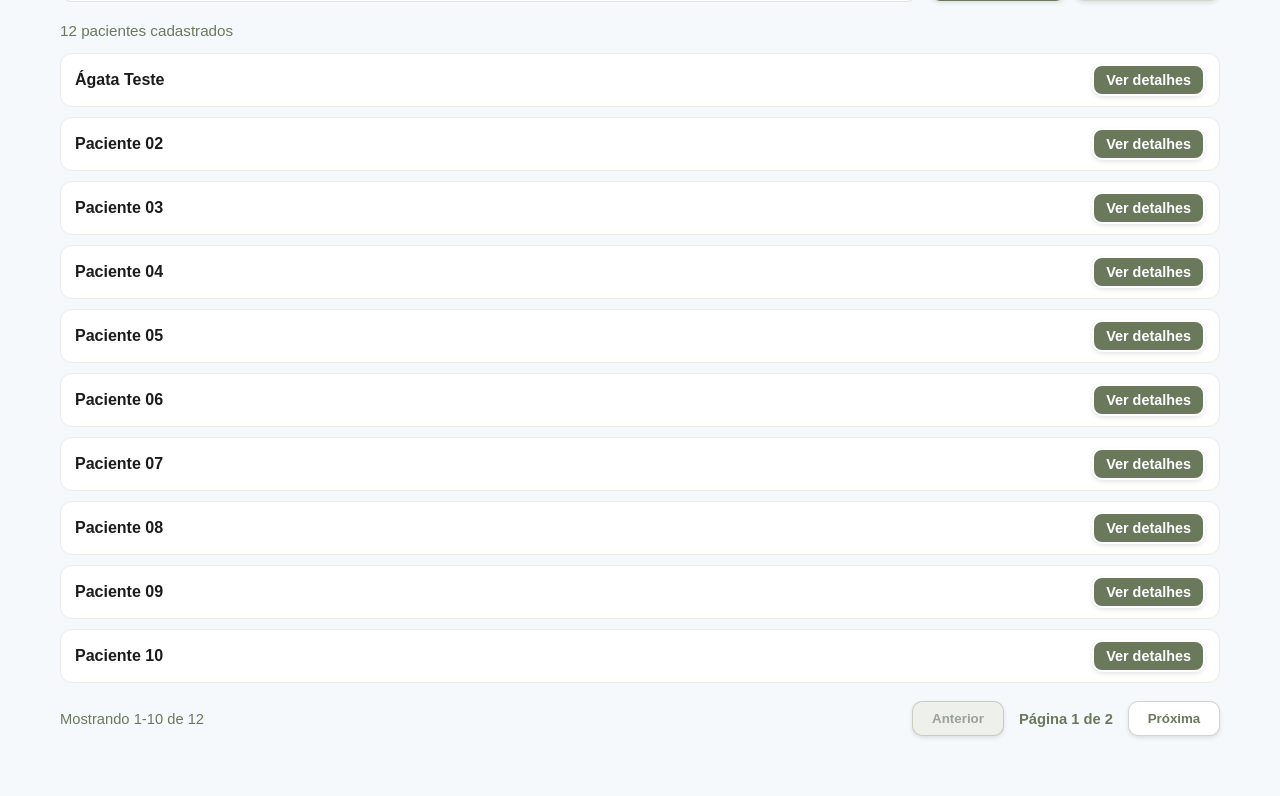
Test: PatientsSearch › mantém paginação e alternância entre lista e grade
(page scrolled)
Expected: the text "Mostrando 1-10 de 12" is shown, [60,710,204,726]
Expected: the navigation bar named "Paginação de pacientes" is shown, [60,701,1220,736]
Step 1. Click the button "Próxima" → (1174, 718), box [1128,701,1220,736]
(page scrolled)
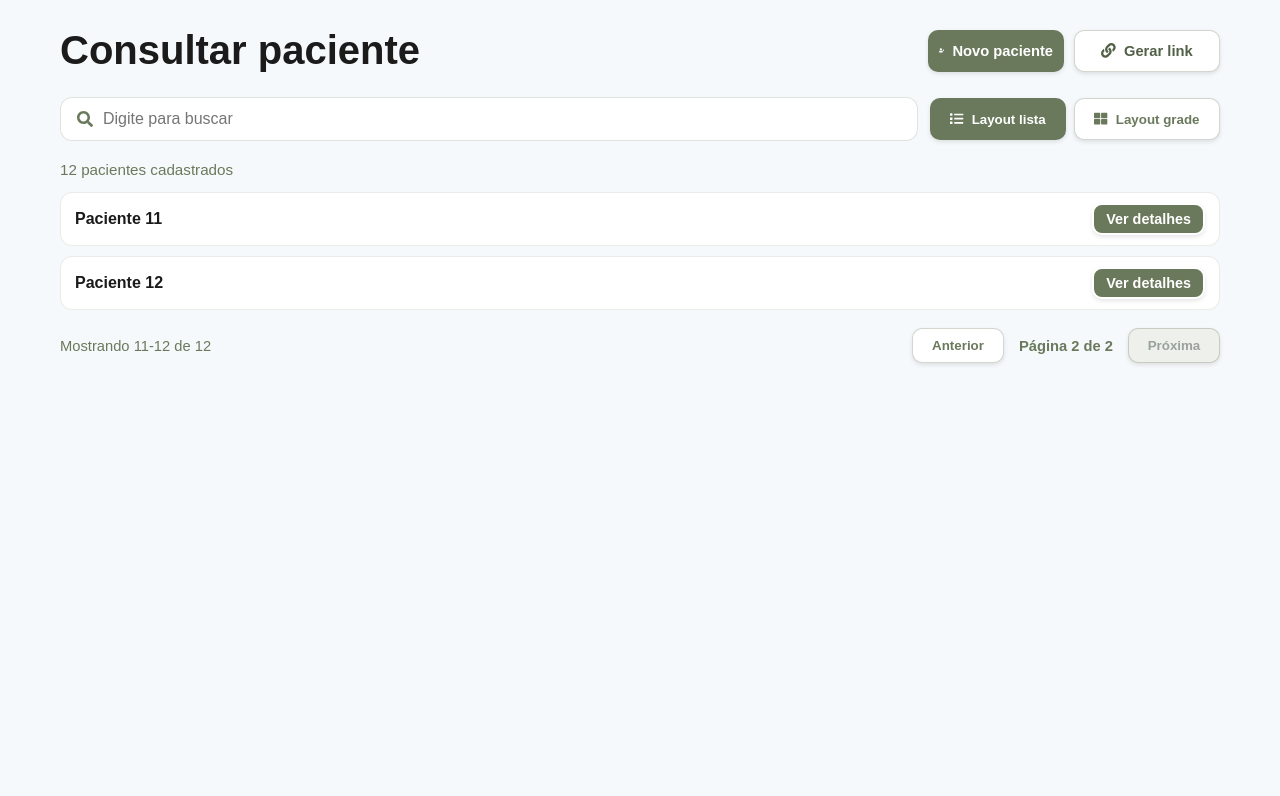
Expected: the text "Mostrando 11-12 de 12" is shown, [60,338,211,354]
Step 2. Click the button "Layout grade" → (1147, 119), box [1074,98,1220,140]
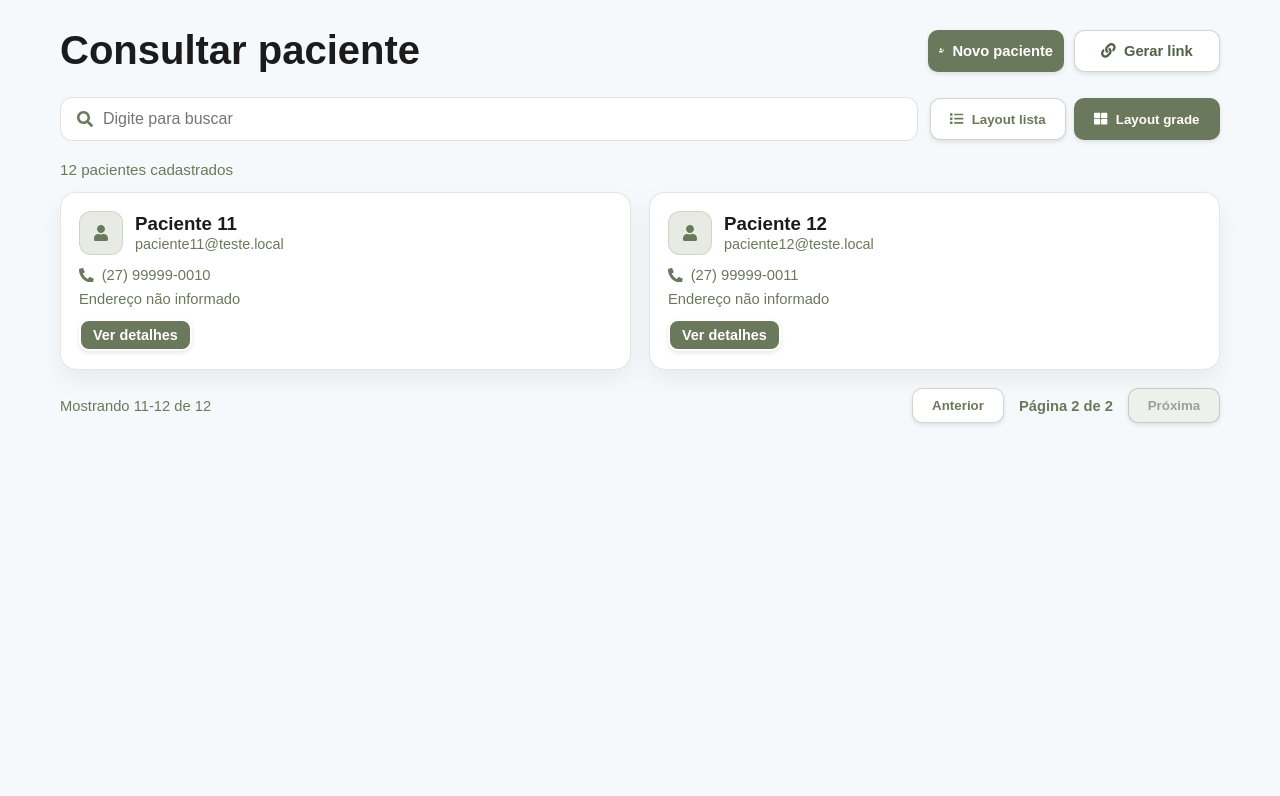
Expected: the text "paciente12@teste.local" is shown, [724,236,874,252]
